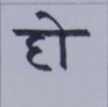e_matra: (35, 11, 68, 30)
